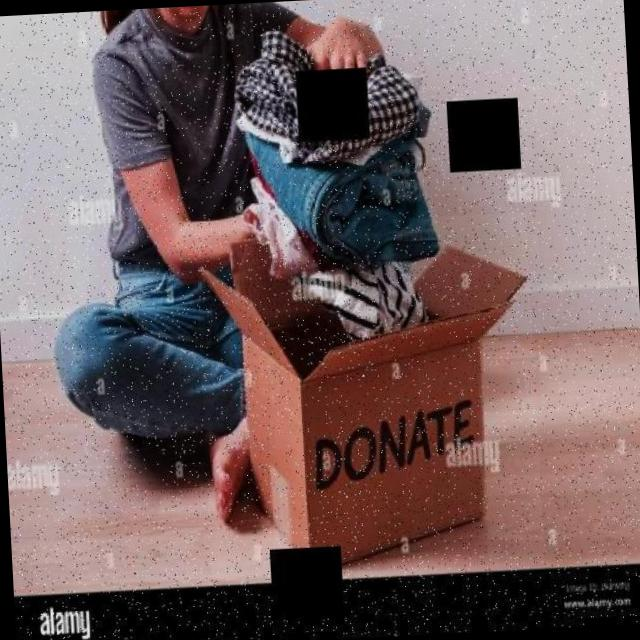box: (194, 212, 545, 581)
